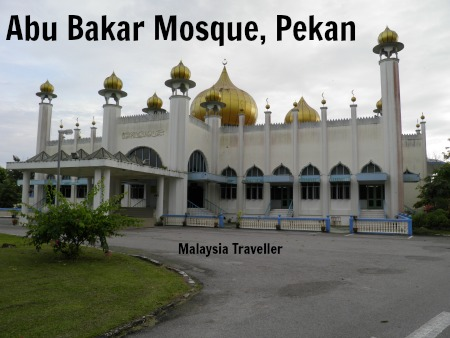Mosque: (34, 32, 427, 231)
